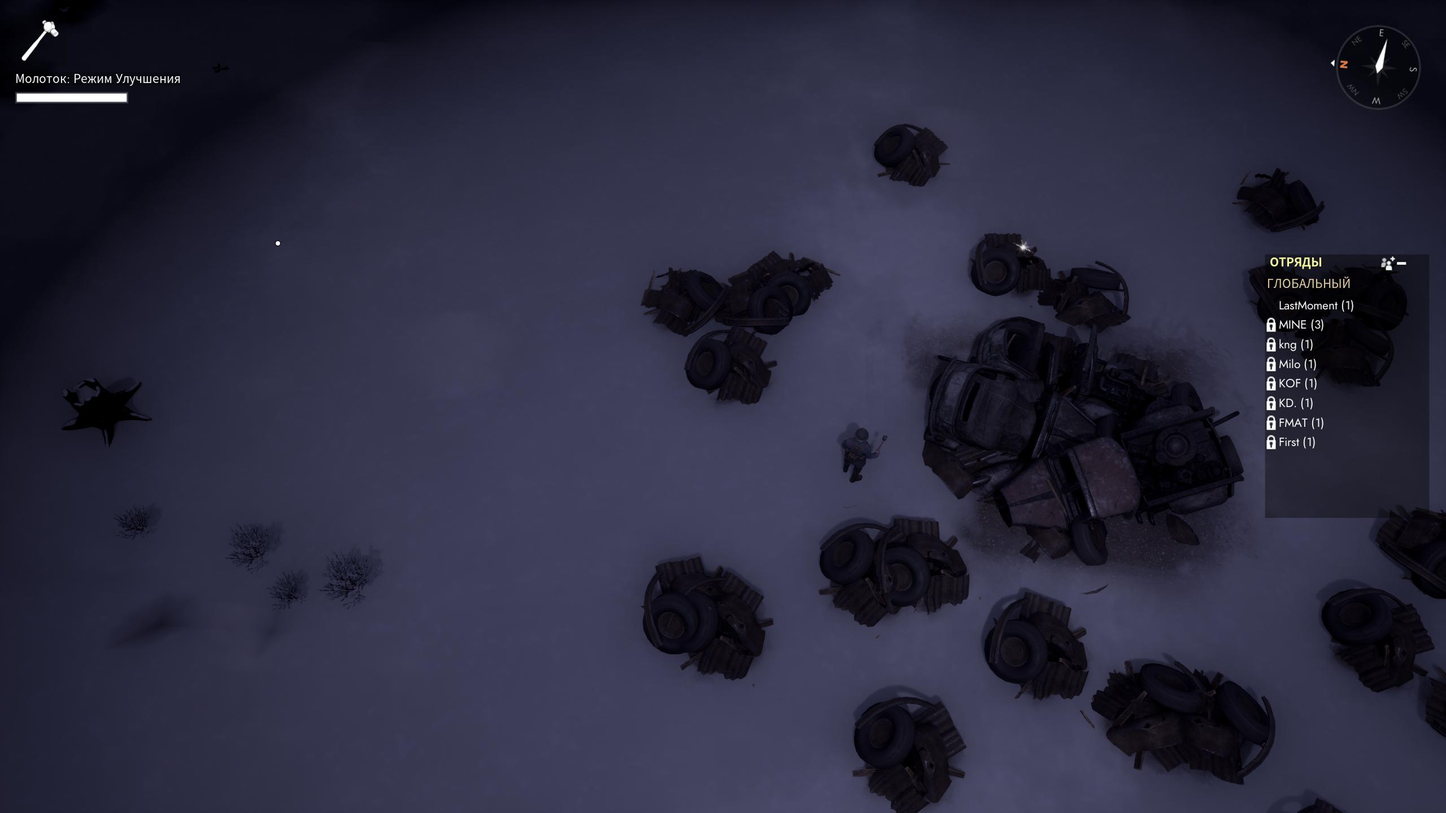player: (842, 429, 878, 482)
scrap_pile: (1091, 663, 1275, 783), (642, 557, 772, 679), (641, 252, 833, 334), (820, 519, 966, 626), (853, 697, 966, 812), (985, 593, 1087, 698), (1016, 263, 1129, 330), (685, 327, 776, 404), (1236, 168, 1325, 231), (970, 234, 1049, 295), (874, 125, 947, 186)
terrain: (924, 317, 1243, 565)
